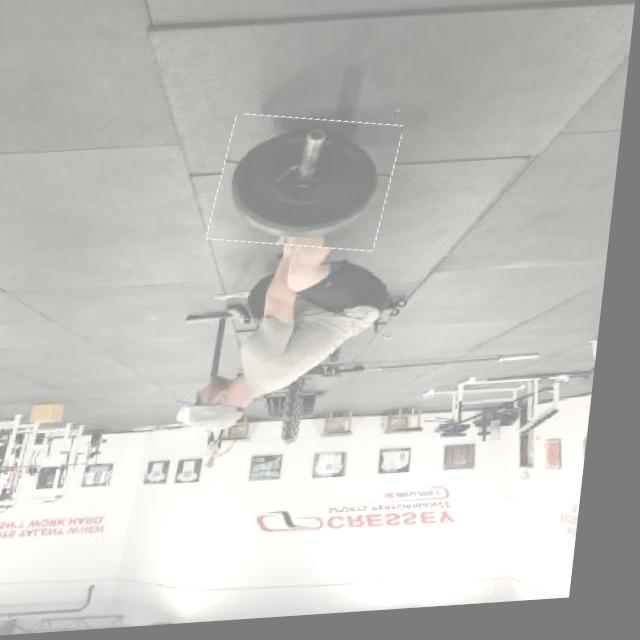barbell: (215, 116, 406, 261)
